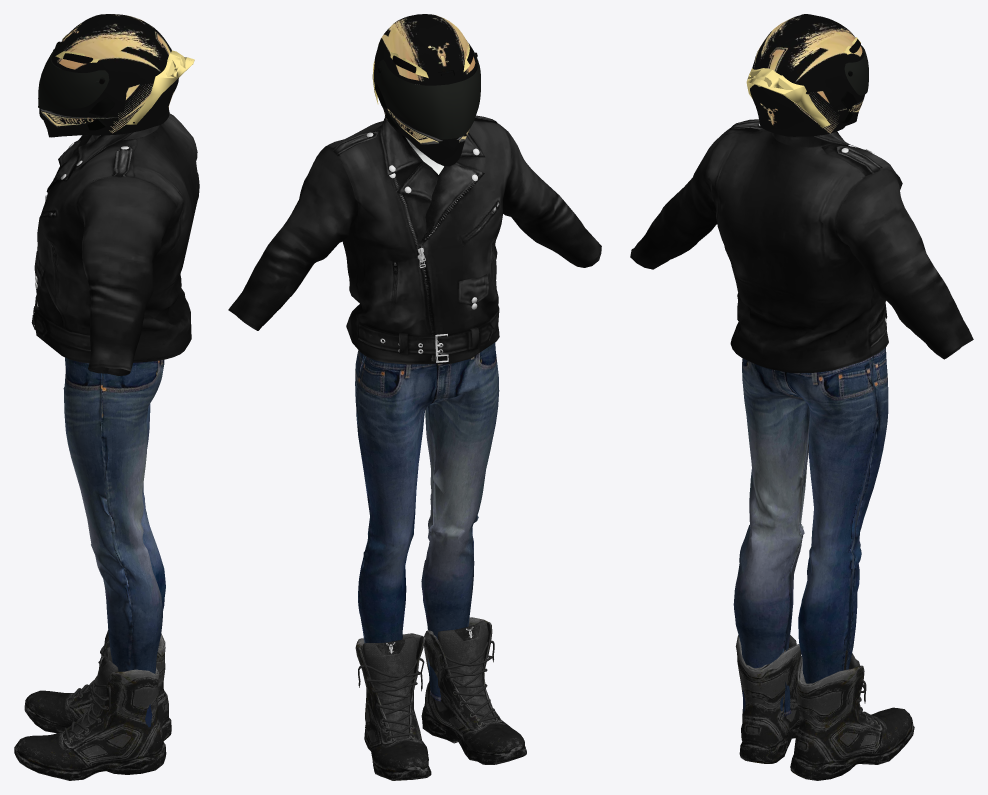
The model's file is newManwithHelmet.glb.
3 views of the same model, side by side, from view 1: azimuth 30°, elevation 25°; view 2: azimuth 150°, elevation 25°; view 3: azimuth 270°, elevation 25° (orthographic).
Visible parts, largest first — view 1: BikerJacket_Leather_0.001, JEANS_BACK_0, Object_2.009, Base.002, Vizer.002, spoiler.002, Vizer Screw.004; view 2: BikerJacket_Leather_0.001, JEANS_BACK_0, Object_2.009, Base.002, Vizer.002, BikerJacket_Metals_0.001; view 3: BikerJacket_Leather_0.001, JEANS_BACK_0, Object_2.009, Base.002, spoiler.002, Vizer.002.
Boxes of the visible parts, x1,y1,x2,y2 form: BikerJacket_Leather_0.001: [31, 113, 199, 375]; JEANS_BACK_0: [63, 357, 165, 727]; Object_2.009: [14, 630, 171, 780]; Base.002: [39, 14, 178, 137]; Vizer.002: [38, 49, 109, 110]; spoiler.002: [55, 34, 194, 124]; Vizer Screw.004: [54, 41, 134, 130]; BikerJacket_Leather_0.001: [228, 115, 601, 364]; JEANS_BACK_0: [355, 342, 499, 701]; Object_2.009: [355, 617, 526, 780]; Base.002: [373, 14, 477, 166]; Vizer.002: [377, 47, 480, 139]; BikerJacket_Metals_0.001: [366, 132, 479, 362]; BikerJacket_Leather_0.001: [630, 119, 973, 372]; JEANS_BACK_0: [733, 348, 888, 716]; Object_2.009: [735, 635, 914, 780]; Base.002: [750, 14, 864, 136]; spoiler.002: [746, 37, 860, 127]; Vizer.002: [844, 45, 868, 95].
Bounding box in the file's own units: 0.4974 × 1.55 × 0.6544.
8 materials, 7 textured.
